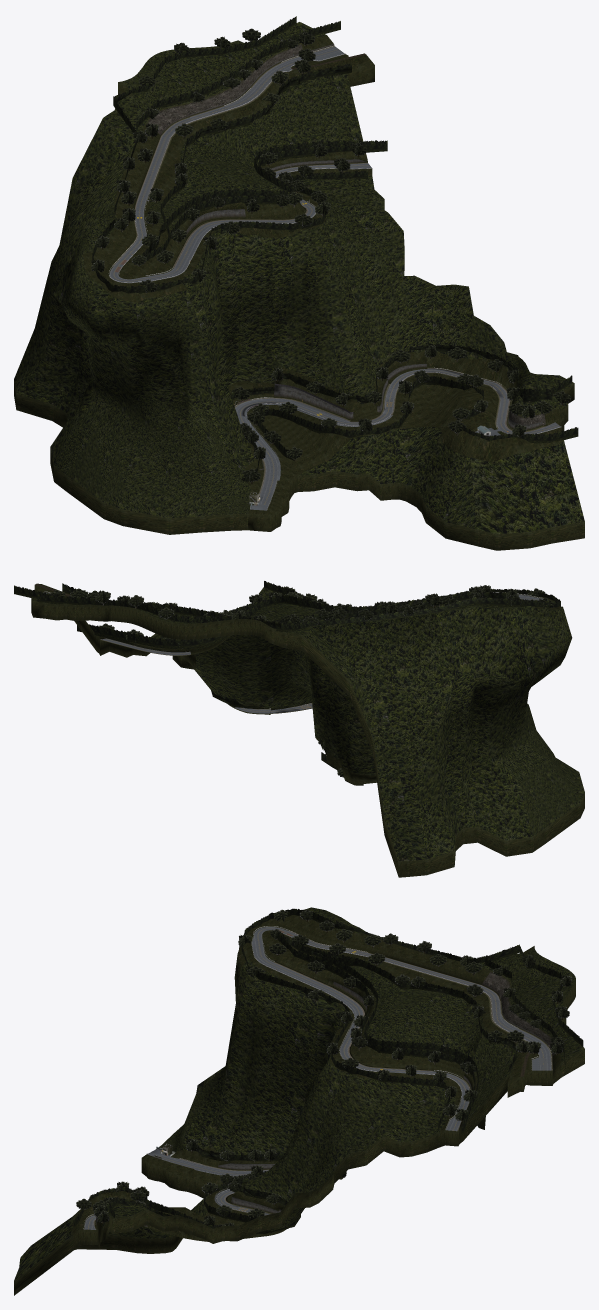
File: akina1.glb
3 renders of one model, top to bottom at view 1: azimuth 30°, elevation 25°; view 2: azimuth 150°, elevation 25°; view 3: azimuth 270°, elevation 25°, orthographic. The views are drawn at different scales.
Parts seen in each view (by area): view 1: akina1; view 2: akina1; view 3: akina1.
Boxes of the visible parts, x1,y1,x2,y2 form: akina1: [14, 16, 584, 550]; akina1: [14, 581, 584, 877]; akina1: [14, 907, 584, 1295].
Bounding box in the file's own units: 400 × 273 × 512.
Materials: 28 (27 with a texture image).
